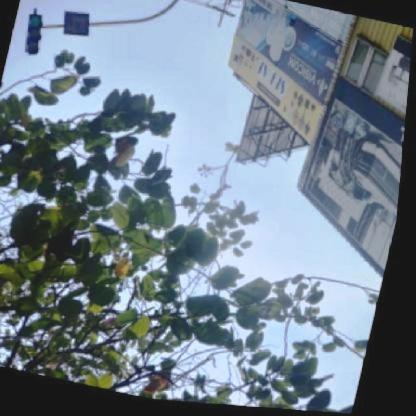Traffic Light -Green-: (23, 18, 49, 60)
